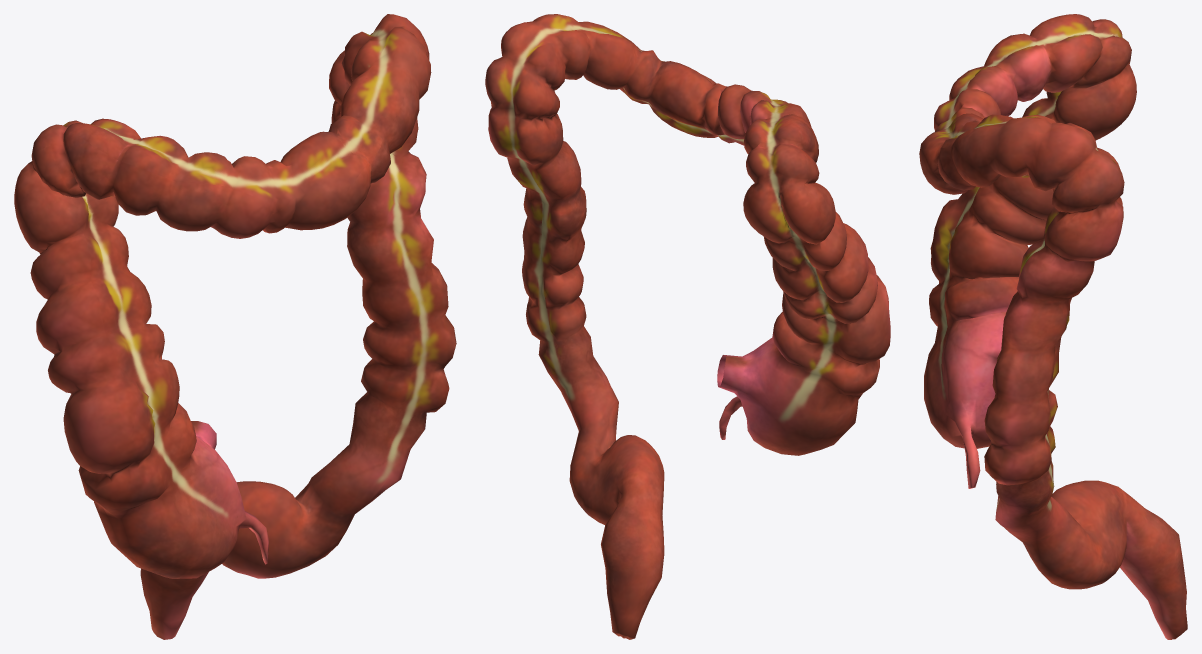
File: Colon.FBX
The picture shows the model from 3 angles, left to right: view 1: azimuth 30°, elevation 25°; view 2: azimuth 150°, elevation 25°; view 3: azimuth 270°, elevation 25°; orthographic projection. The views are drawn at different scales.
Visible parts, largest first — view 1: Colon; view 2: Colon; view 3: Colon.
Part boxes in pixels (x1,y1,x2,y2): Colon: (14,14,456,639); Colon: (485,14,890,639); Colon: (919,14,1187,639).
Bounding box in the file's own units: 200 × 121 × 296.
